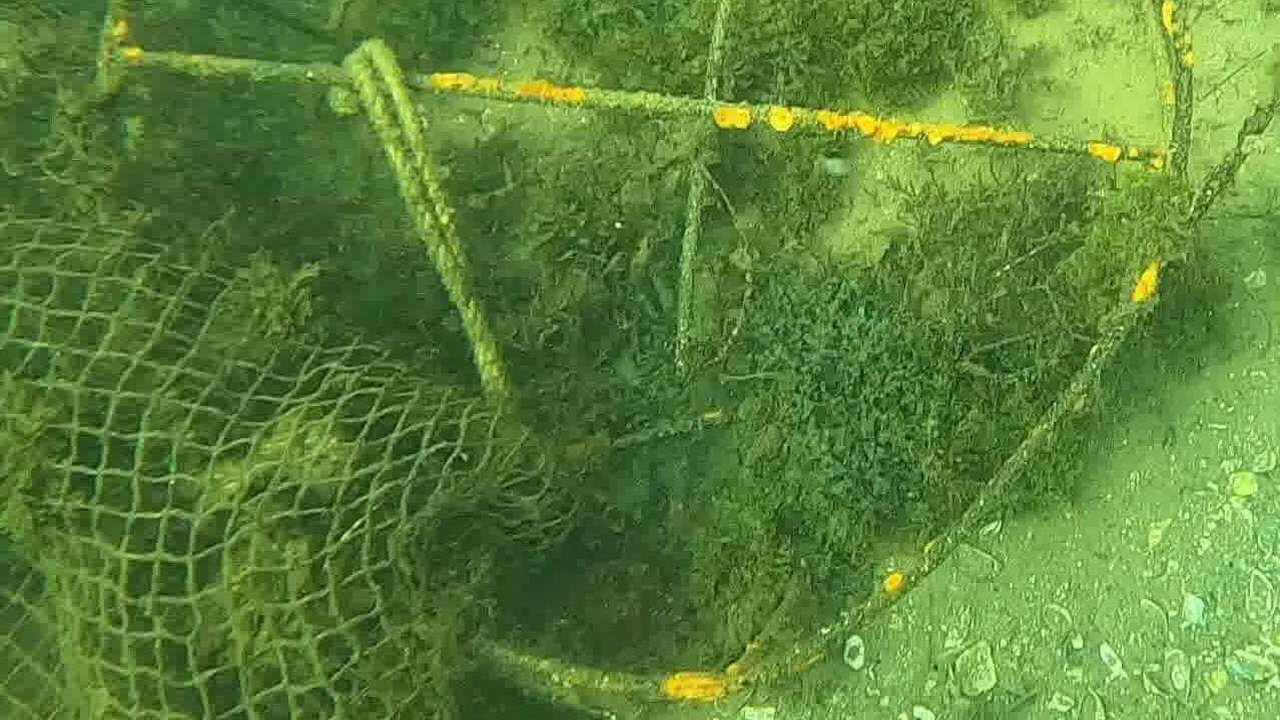bundle of ropes: (339, 36, 515, 404)
fish net: (1, 217, 578, 720)
